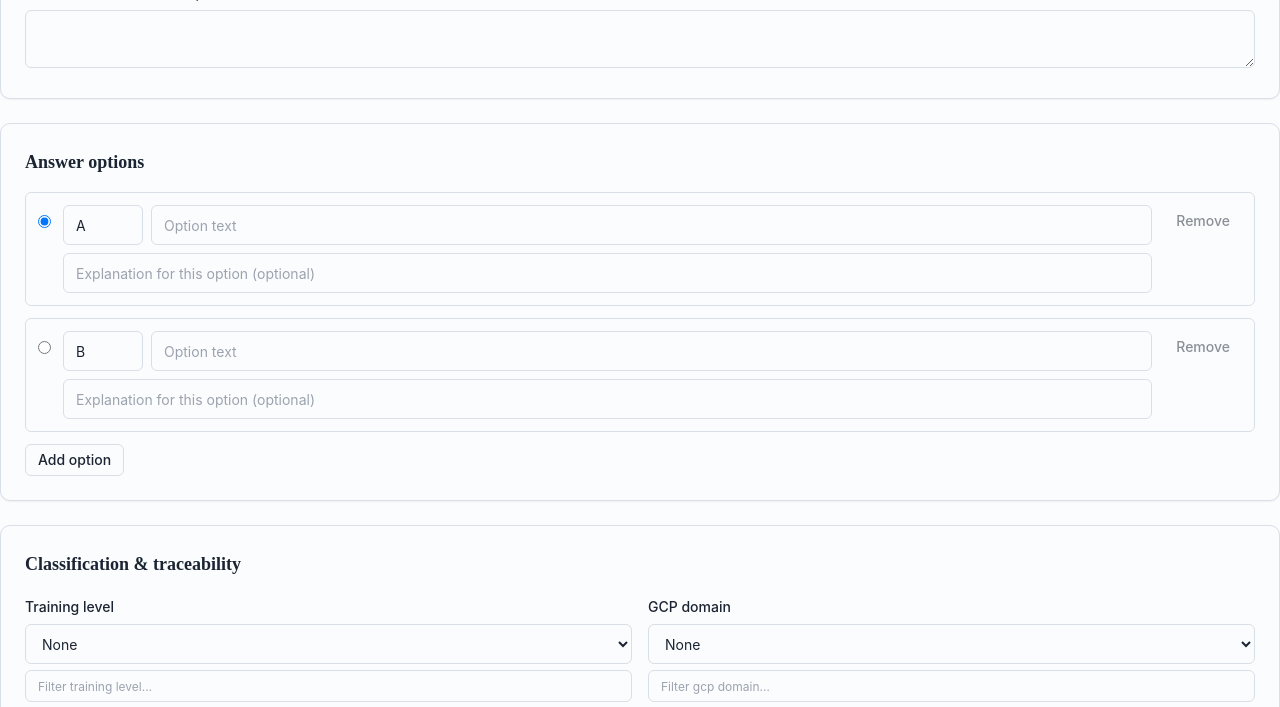
Test case: QuestionForm › only one option can be marked correct at a time
The image size is (1280, 707).
(page scrolled)
Expected: the radio button named "Mark option A correct" is checked, top-left (38, 215), bottom-right (51, 228)
Click the radio button named "Mark option B correct": coordinates (44, 348) top-left (38, 341), bottom-right (51, 354)
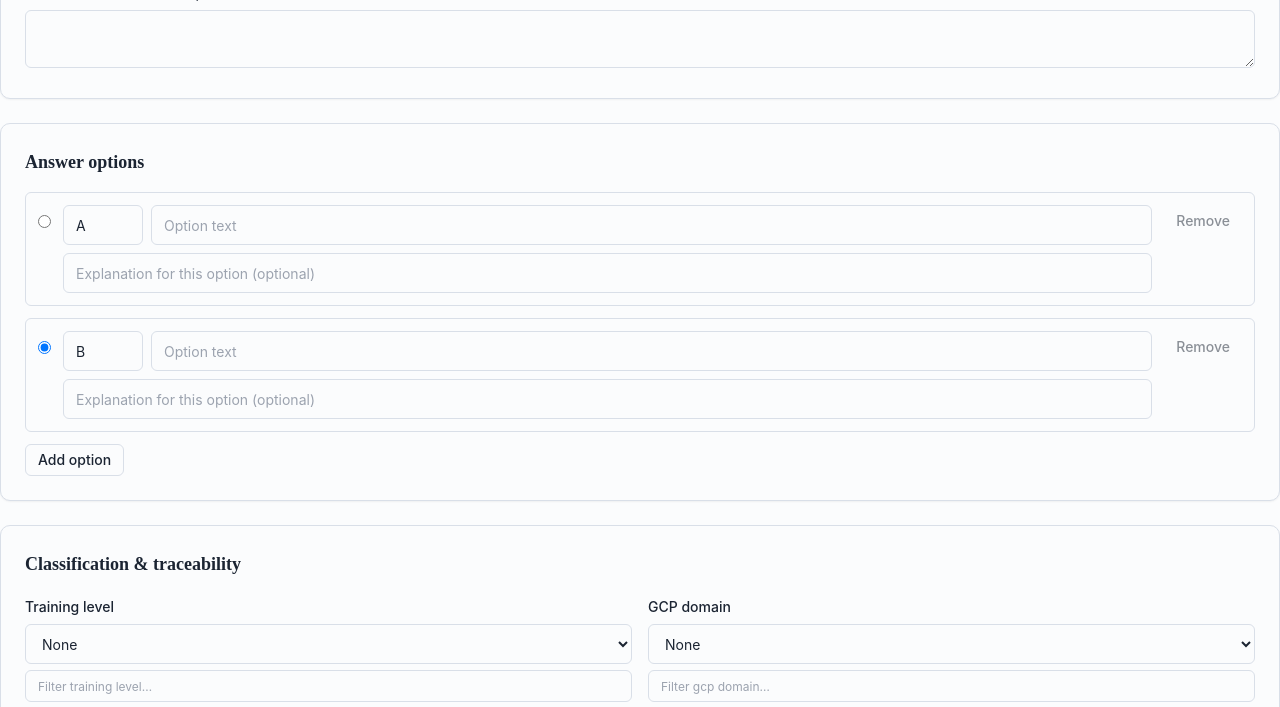
Result: the radio button named "Mark option B correct" is checked at top-left (38, 341), bottom-right (51, 354)
Result: the radio button named "Mark option A correct" is not checked at top-left (38, 215), bottom-right (51, 228)
